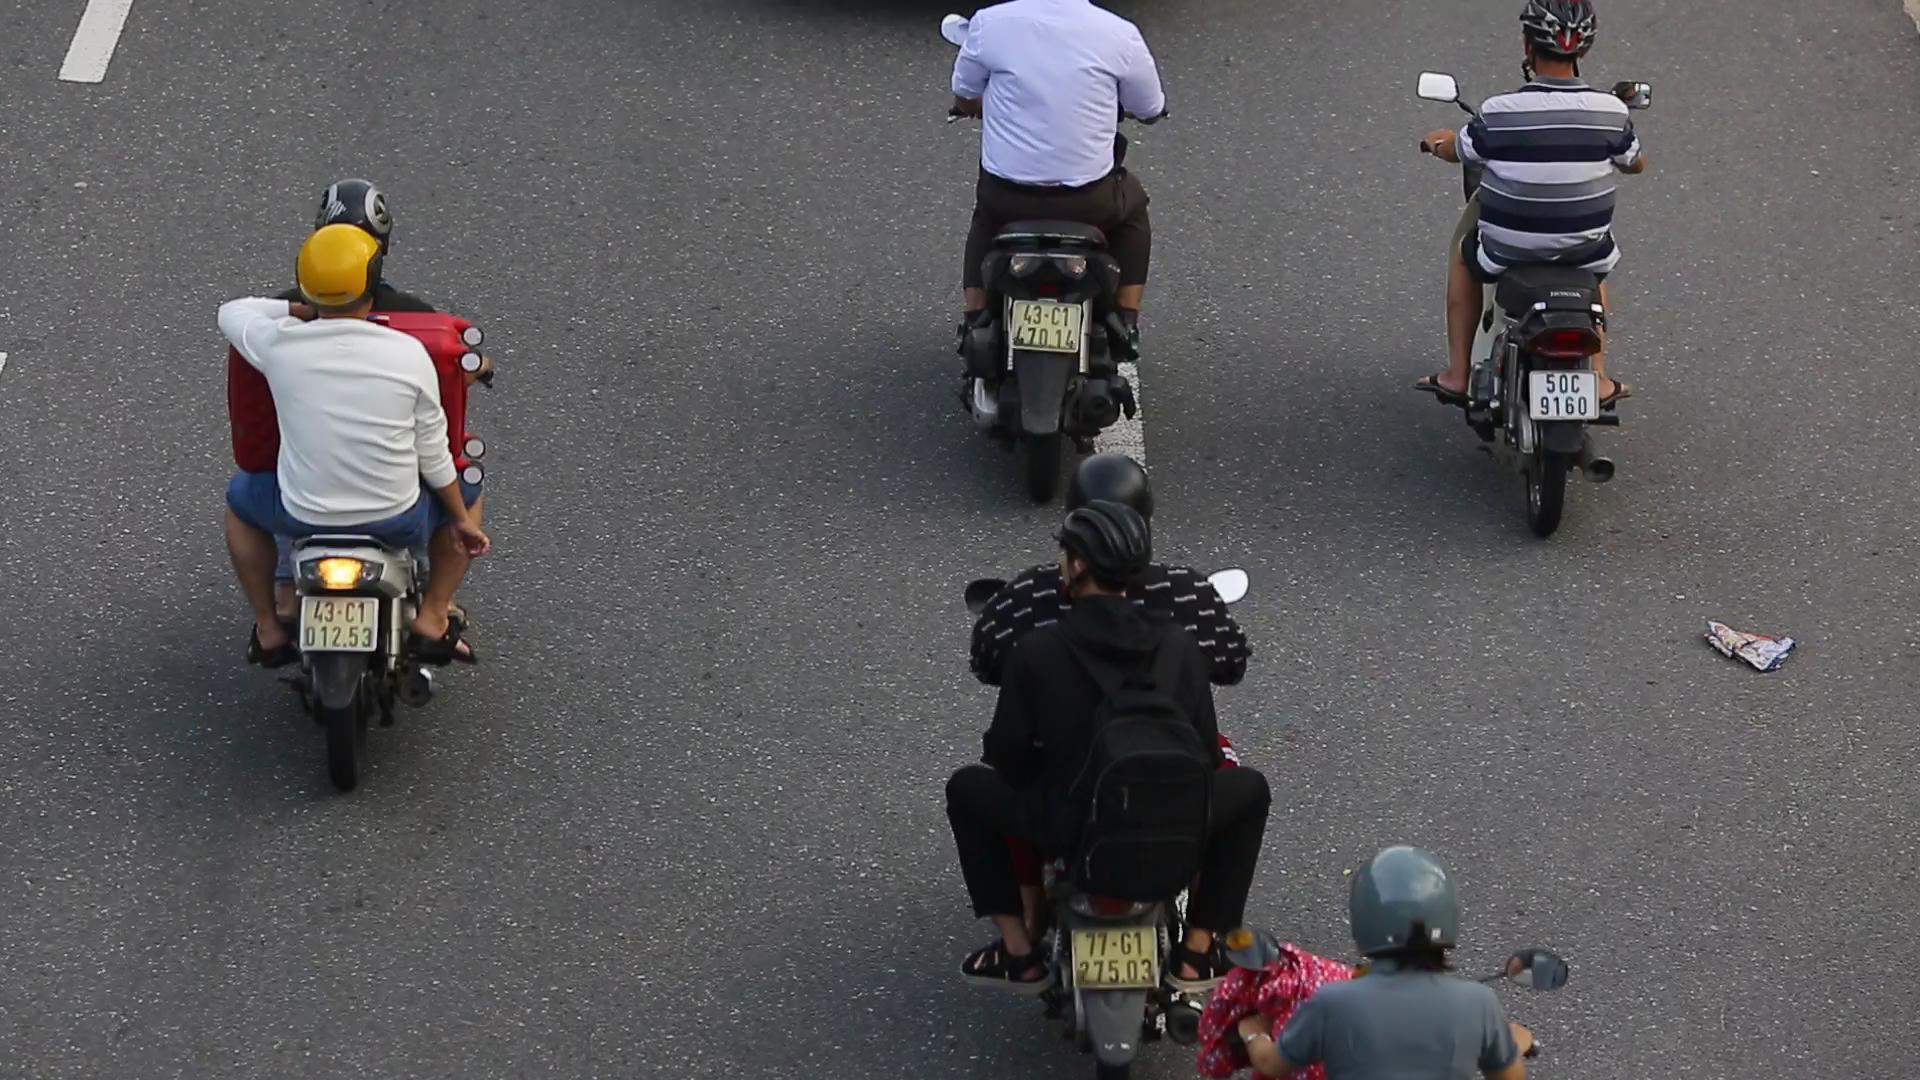motobike: (940, 459, 1267, 1072), (212, 177, 500, 808), (1391, 0, 1662, 545)
